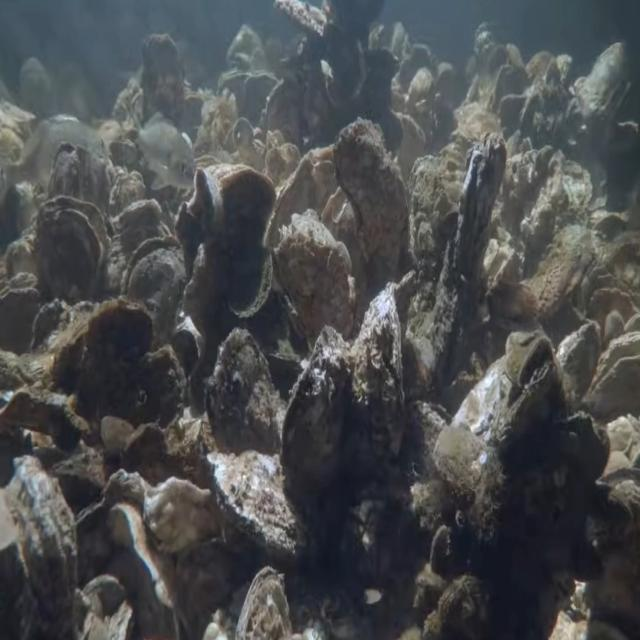Oyster-Closed: (332, 119, 410, 296), (204, 450, 306, 568), (232, 565, 290, 640), (0, 281, 47, 352), (100, 413, 138, 458)
Oyster-Indeterminate: (432, 130, 508, 359), (279, 325, 356, 518), (0, 454, 76, 639), (452, 331, 564, 455), (274, 209, 356, 348), (51, 298, 154, 396), (351, 282, 404, 464), (204, 326, 276, 456), (219, 164, 277, 319), (37, 193, 112, 304), (410, 155, 460, 321), (521, 225, 608, 320), (554, 323, 605, 422), (133, 342, 187, 427)
Oyster-Open: (124, 228, 189, 341), (582, 332, 640, 424), (178, 166, 222, 269)
